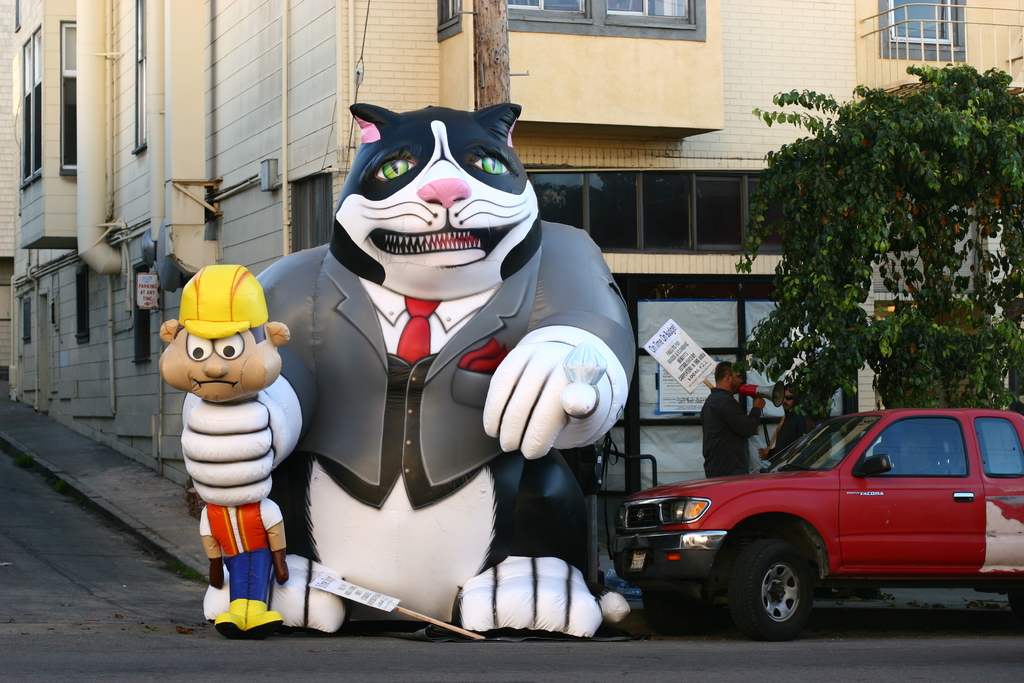Animal: (185, 103, 628, 648)
